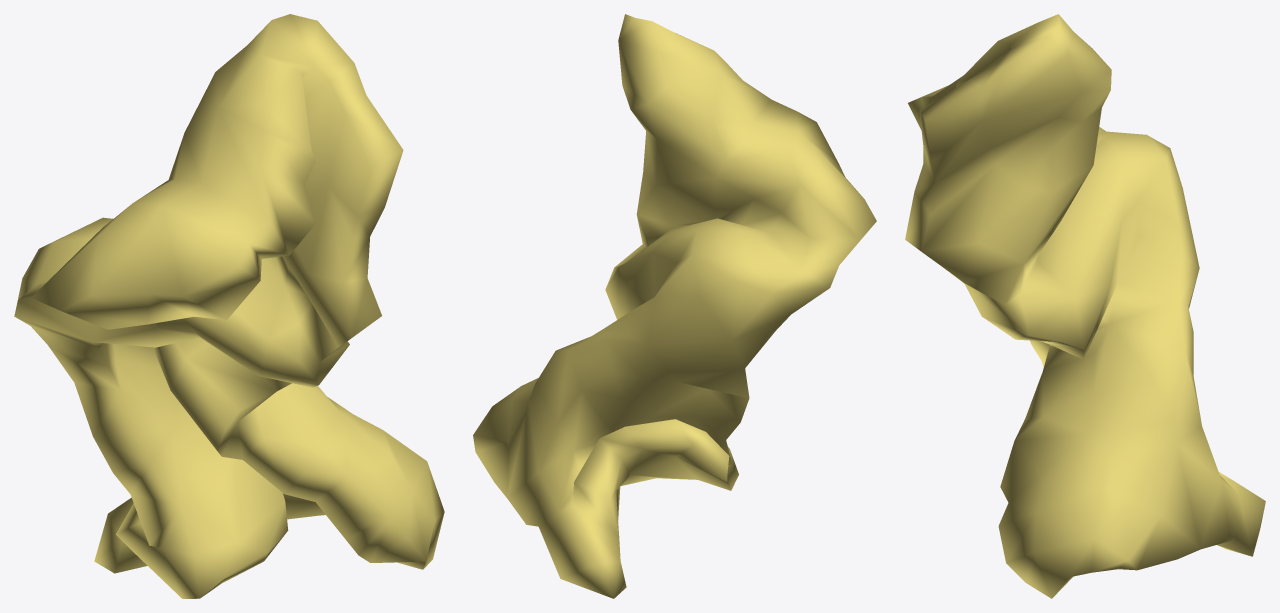
Rendered from superior-occipital-gyri-l.glb.
The picture shows the model from 3 angles, left to right: view 1: azimuth 30°, elevation 25°; view 2: azimuth 150°, elevation 25°; view 3: azimuth 270°, elevation 25°; orthographic projection. The views are drawn at different scales.
Parts seen in each view (by area): view 1: Superior occipital gyri.l; view 2: Superior occipital gyri.l; view 3: Superior occipital gyri.l.
Part boxes in pixels (<box>): Superior occipital gyri.l: <box>14,14,444,598</box>; Superior occipital gyri.l: <box>473,14,876,598</box>; Superior occipital gyri.l: <box>905,14,1265,598</box>.
Size of the model in its own units: 0.0295 by 0.0397 by 0.0238.
